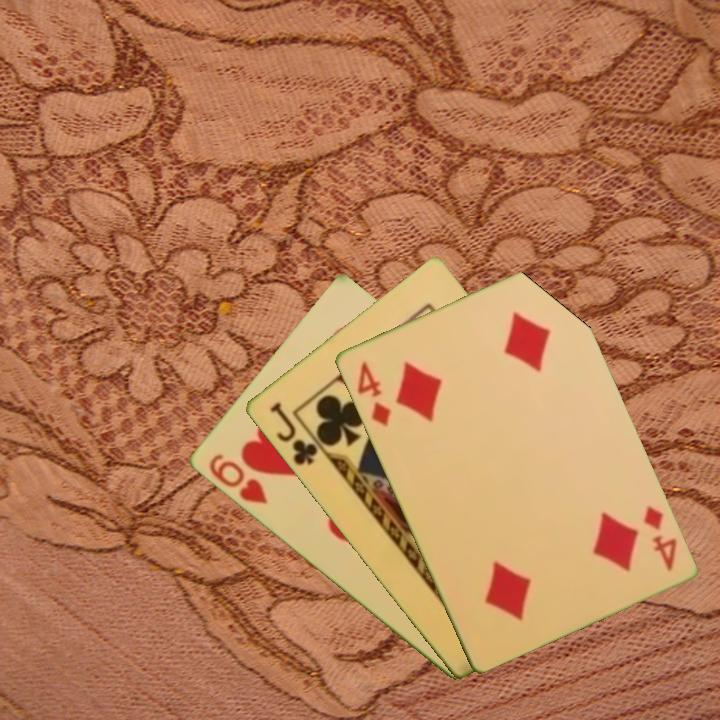4d: (352, 358, 394, 429), (639, 502, 679, 574)
6h: (205, 450, 270, 508)
Jc: (265, 398, 320, 469)
